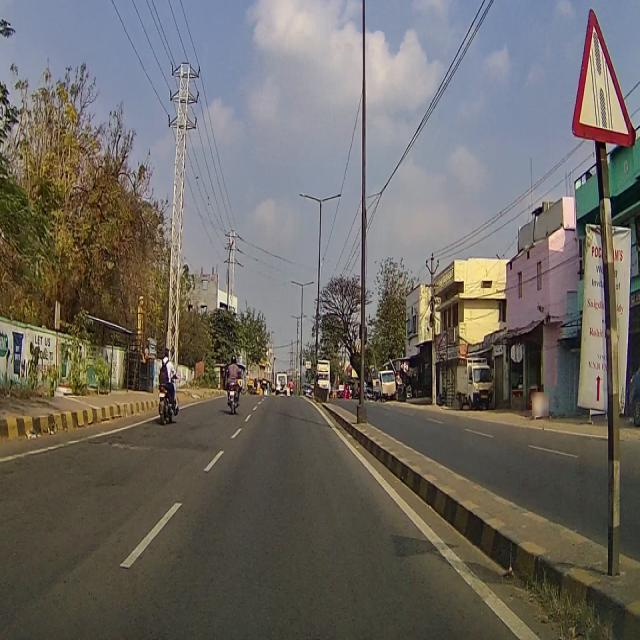gap-in-median: (576, 2, 635, 142)
